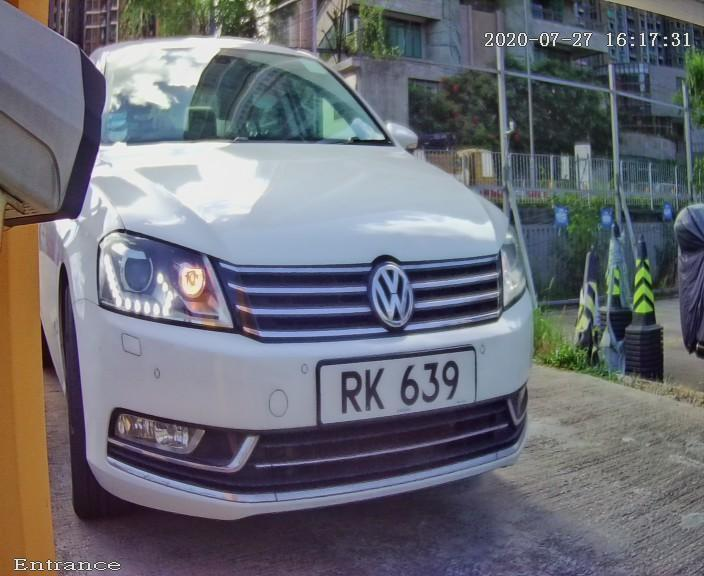privatecar: (48, 16, 613, 535)
